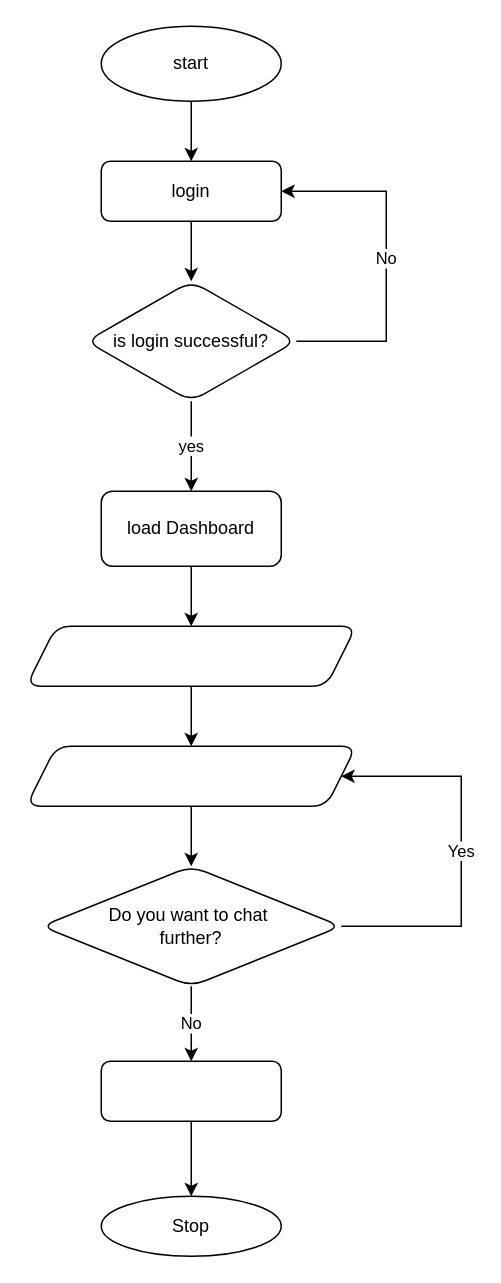
The diagram is 501 pixels wide and 1283 high, and some of its shapes have lost their labels. Here are the shapes that lost their labels. From the top down, the centre of each, then its label:
At pixel 190 655: "Open chatbot".
At pixel 190 775: "Interact with chatbot".
At pixel 190 1090: "logout".
